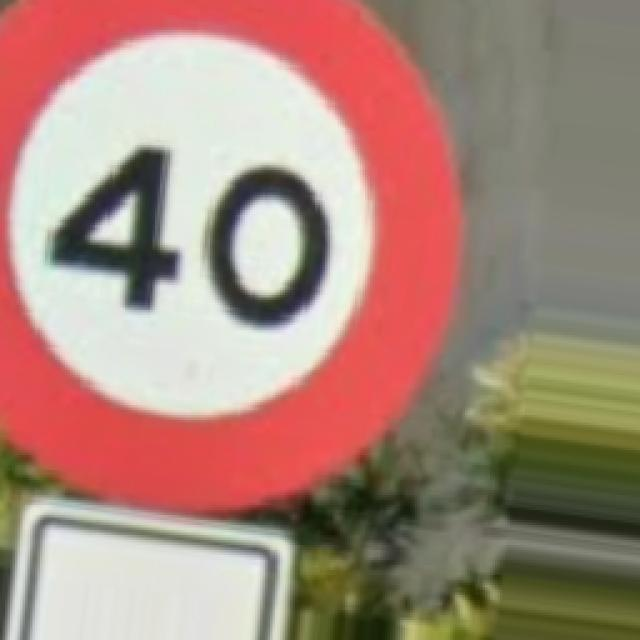Speed Limit -40-: (0, 0, 458, 508)
